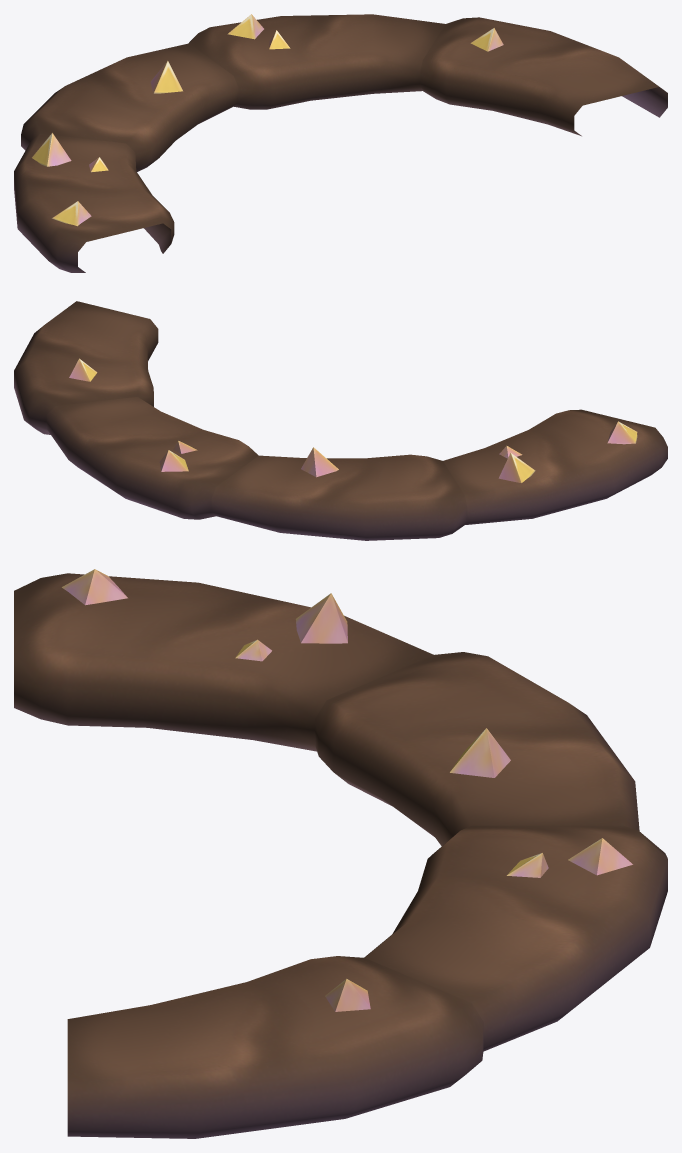
File: scenes_candy_bridge01.FBX
The picture shows the model from 3 angles, top to bottom: view 1: azimuth 30°, elevation 25°; view 2: azimuth 150°, elevation 25°; view 3: azimuth 270°, elevation 25°; orthographic projection. The views are drawn at different scales.
Visible parts, largest first — view 1: scenes_candy_bridge01; view 2: scenes_candy_bridge01; view 3: scenes_candy_bridge01.
Boxes of the visible parts, x1=… form: scenes_candy_bridge01: x1=14, y1=14, x2=667, y2=272; scenes_candy_bridge01: x1=14, y1=301, x2=667, y2=540; scenes_candy_bridge01: x1=14, y1=569, x2=667, y2=1138.
Bounding box in the file's own units: 1389 × 135 × 741.
